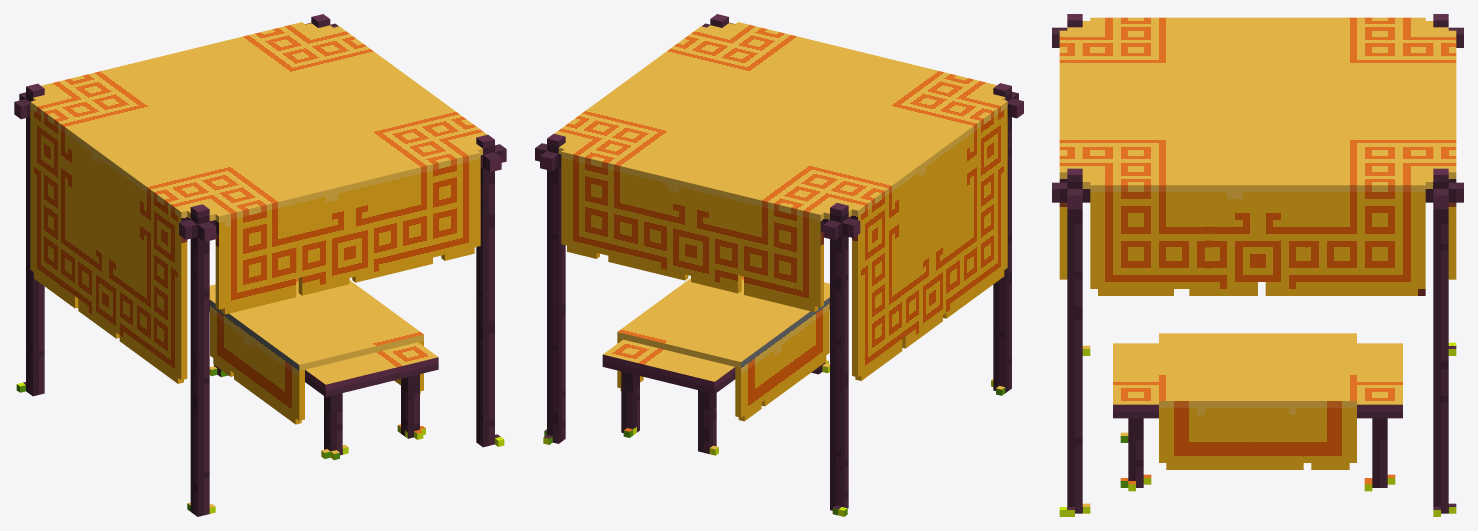
Rendered from zu_kiosk_cao.fezao.glb.
3 views of the same model, side by side, from view 1: azimuth 30°, elevation 25°; view 2: azimuth 150°, elevation 25°; view 3: azimuth 270°, elevation 25° (orthographic). The views are drawn at different scales.
Visible parts, largest first — view 1: ZU_KIOSK_CAO; view 2: ZU_KIOSK_CAO; view 3: ZU_KIOSK_CAO.
Boxes of the visible parts, bbox=[...] form: ZU_KIOSK_CAO: bbox=[14, 14, 506, 516]; ZU_KIOSK_CAO: bbox=[535, 14, 1023, 516]; ZU_KIOSK_CAO: bbox=[1052, 14, 1463, 516].
Bounding box in the file's own units: 3.38 × 3.06 × 3.38.
1 material, 1 textured.
